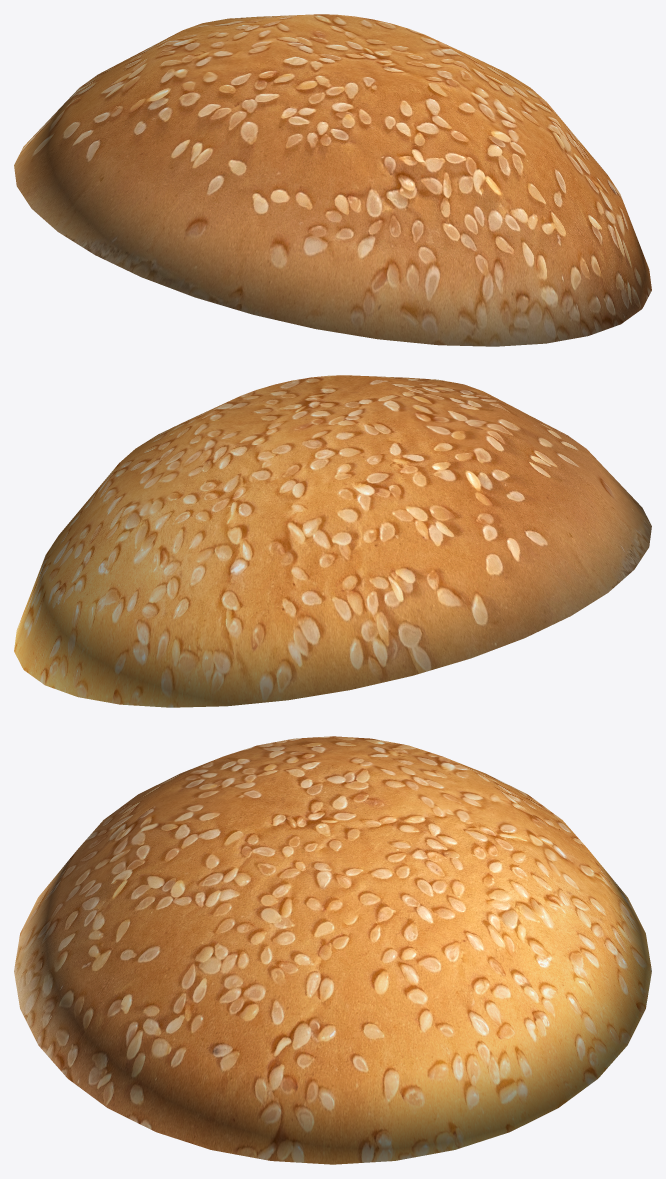
Rendered from top loaf (2).fbx.
3 renders of one model, top to bottom at view 1: azimuth 30°, elevation 25°; view 2: azimuth 150°, elevation 25°; view 3: azimuth 270°, elevation 25°, orthographic.
Parts seen in each view (by area): view 1: Circle.011; view 2: Circle.011; view 3: Circle.011.
Boxes of the visible parts, left/top/right/bottom form: Circle.011: left=14, top=14, right=651, bottom=346; Circle.011: left=14, top=375, right=651, bottom=707; Circle.011: left=14, top=736, right=651, bottom=1164.
Bounding box in the file's own units: 17.47 × 7.62 × 17.88.
2 materials, 2 textured.
